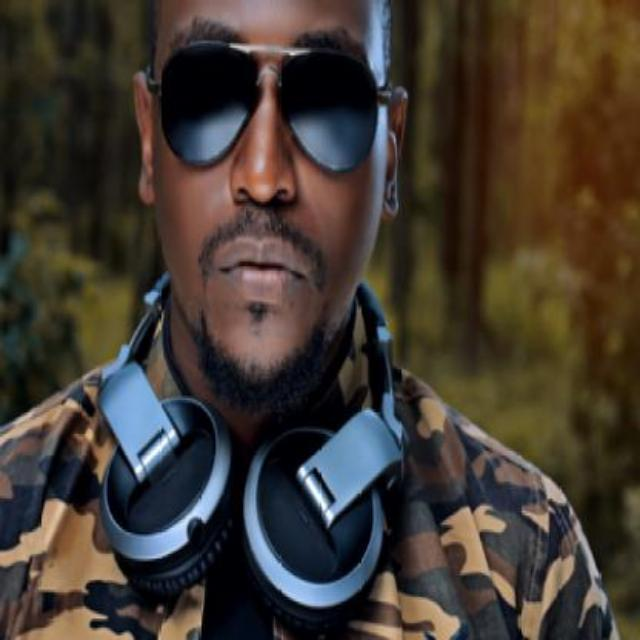glasses: (146, 42, 388, 172)
